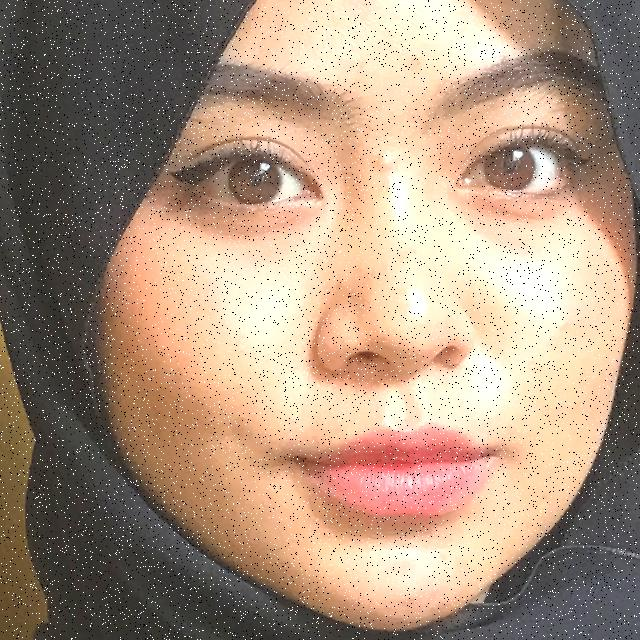kapan: (0, 226, 430, 640)
